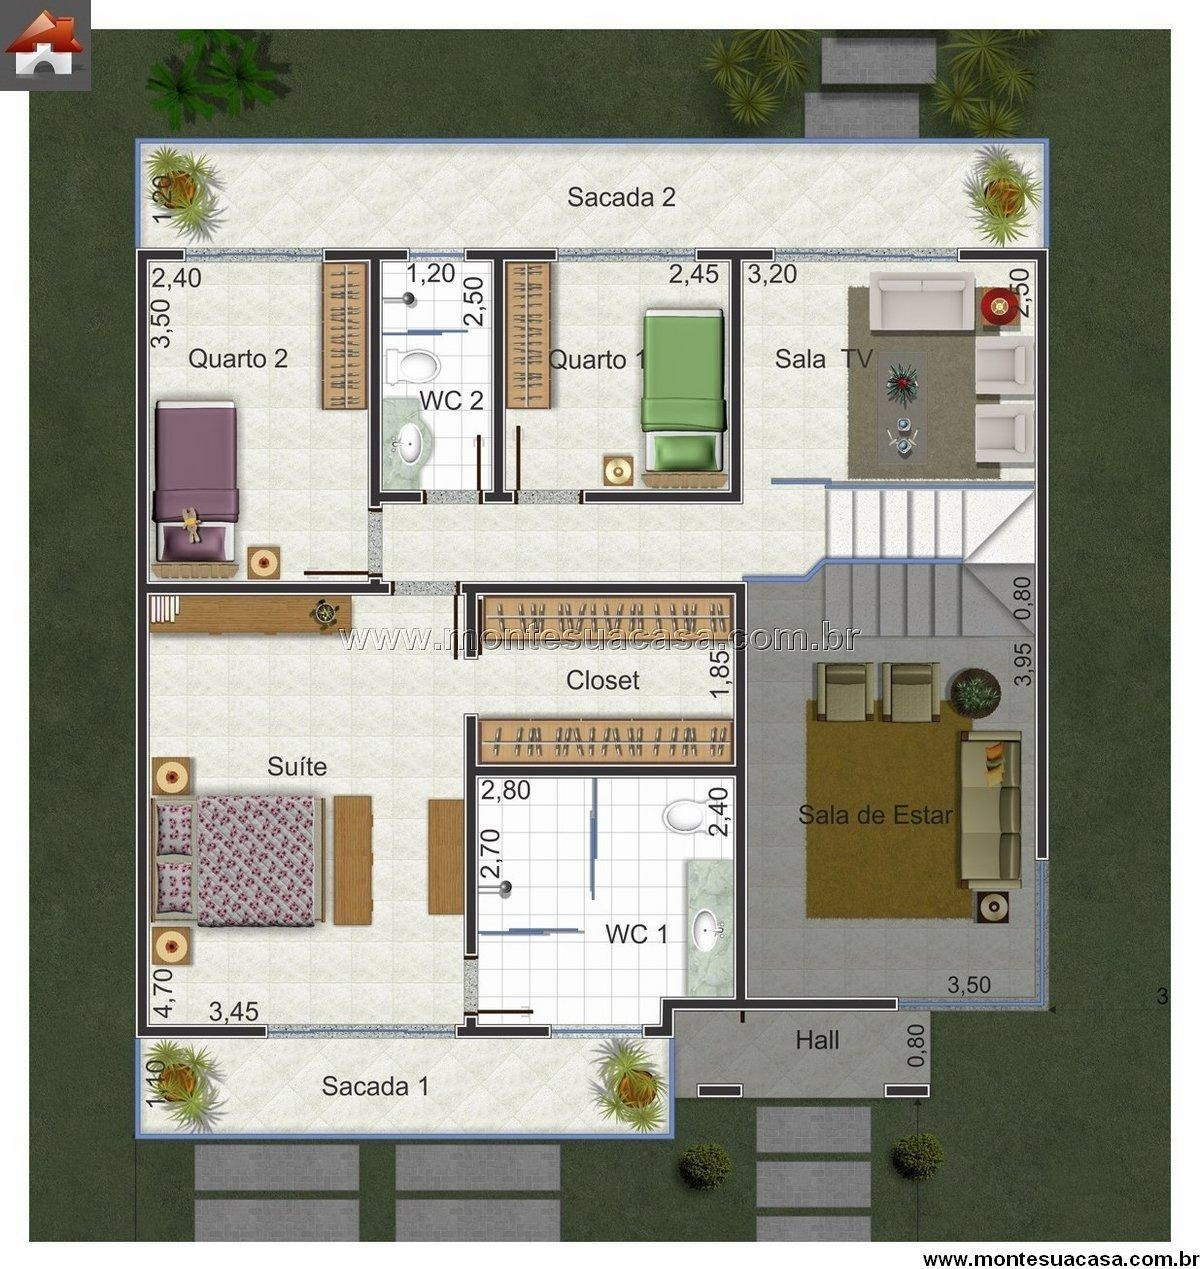balcony: (125, 1023, 678, 1147)
room: (134, 583, 486, 1038), (732, 581, 1050, 1017), (135, 246, 388, 601), (458, 760, 751, 1043), (730, 243, 1048, 488), (489, 243, 749, 510), (461, 573, 747, 781), (362, 244, 509, 509)
